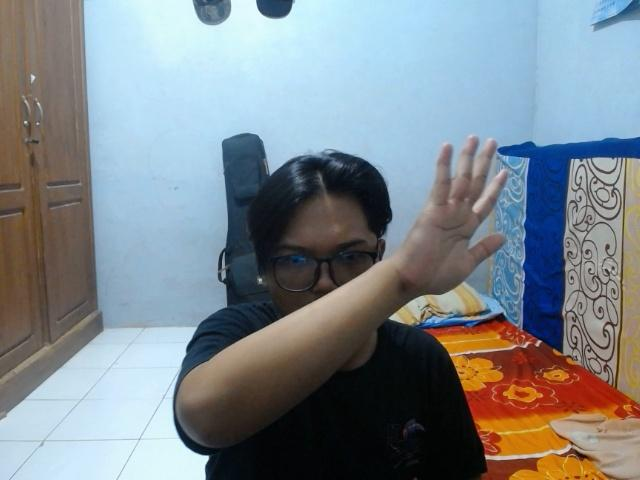Release: (401, 130, 511, 294)
